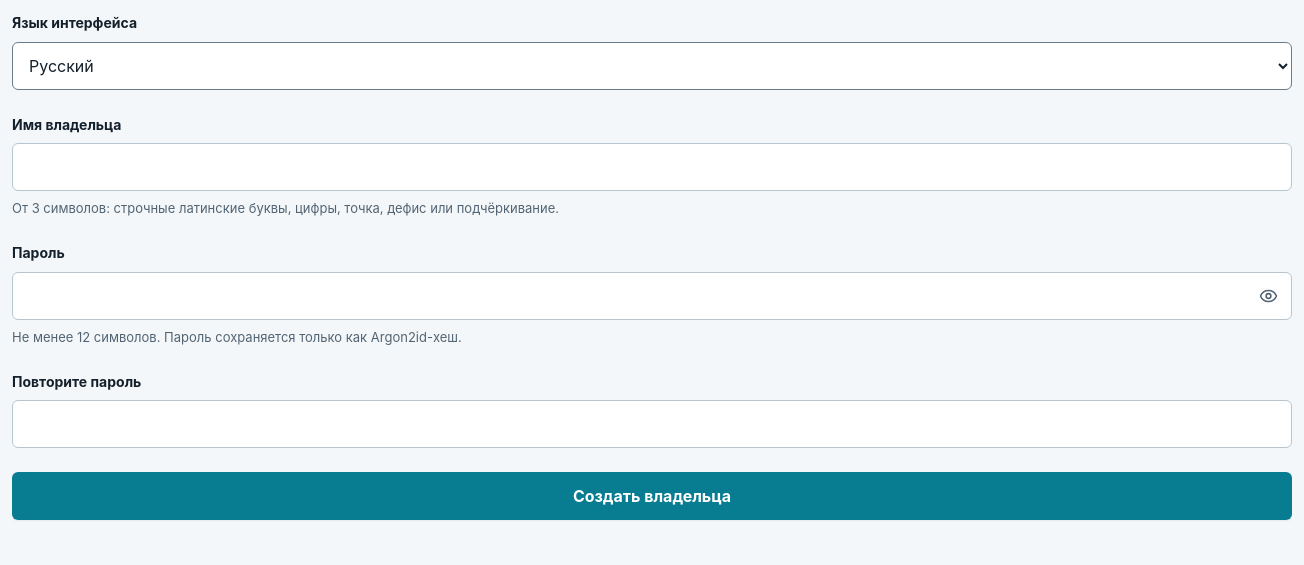
Scenario: OwnerSetupForm › explains a password mismatch next to confirmation
Type "owner" into the field labelled "Имя владельца" at (652, 167), box [12,143,1292,191]
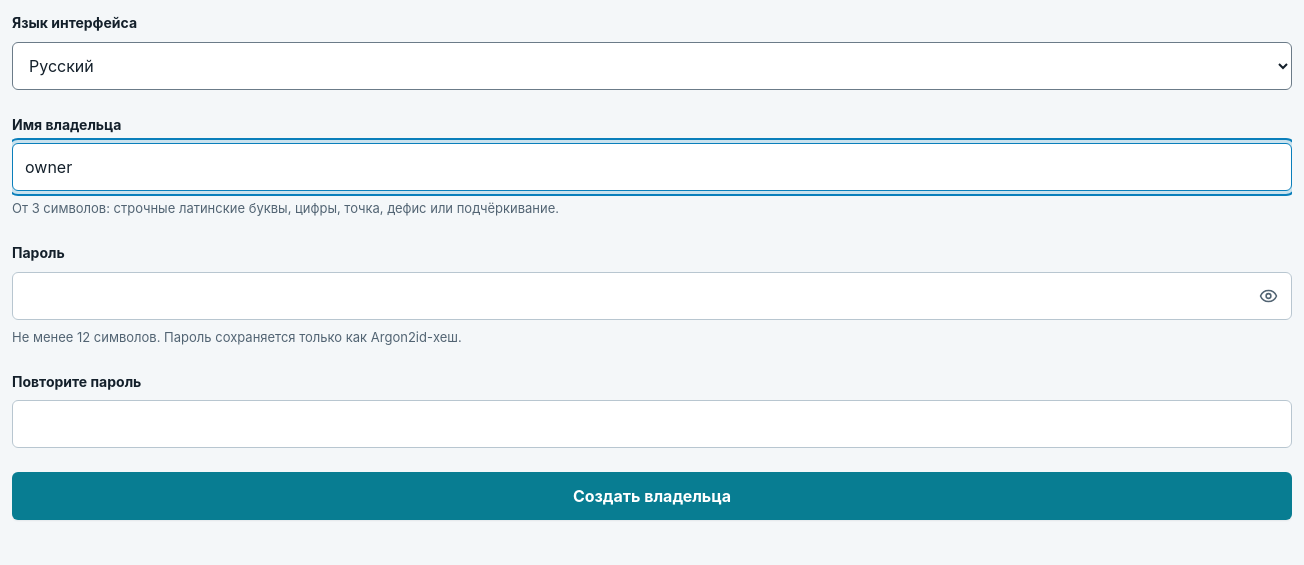
Type "correct horse battery staple" into the password field labelled "Пароль" at (652, 296), box [12,272,1292,320]
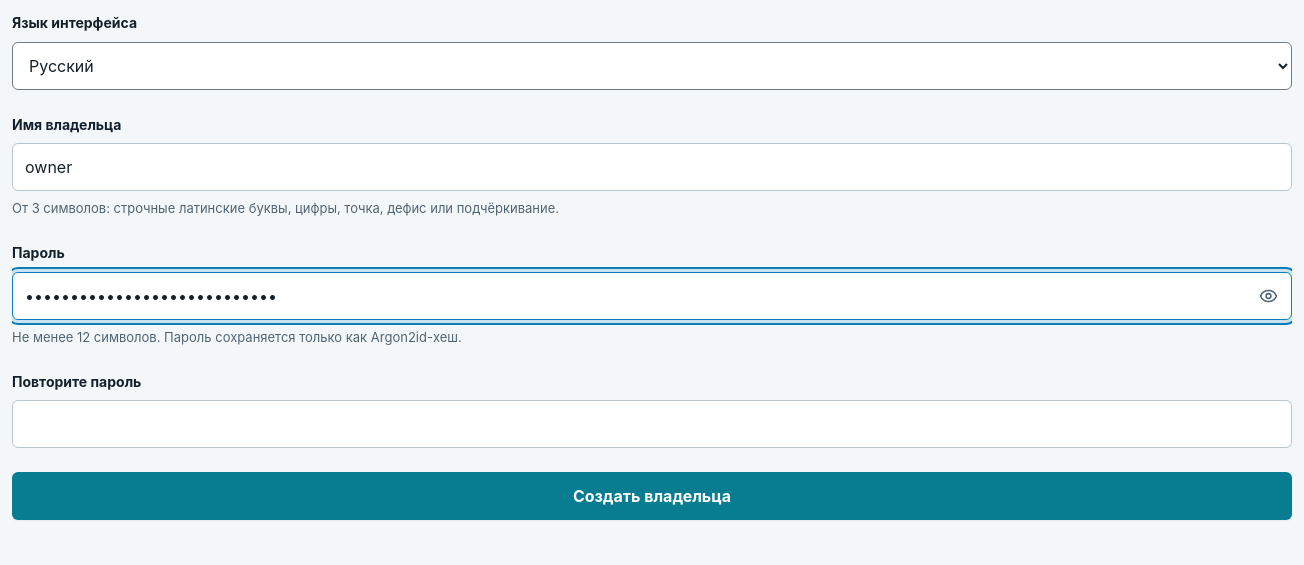
Type "different password" into the password field labelled "Повторите пароль" at (652, 424), box [12,400,1292,448]
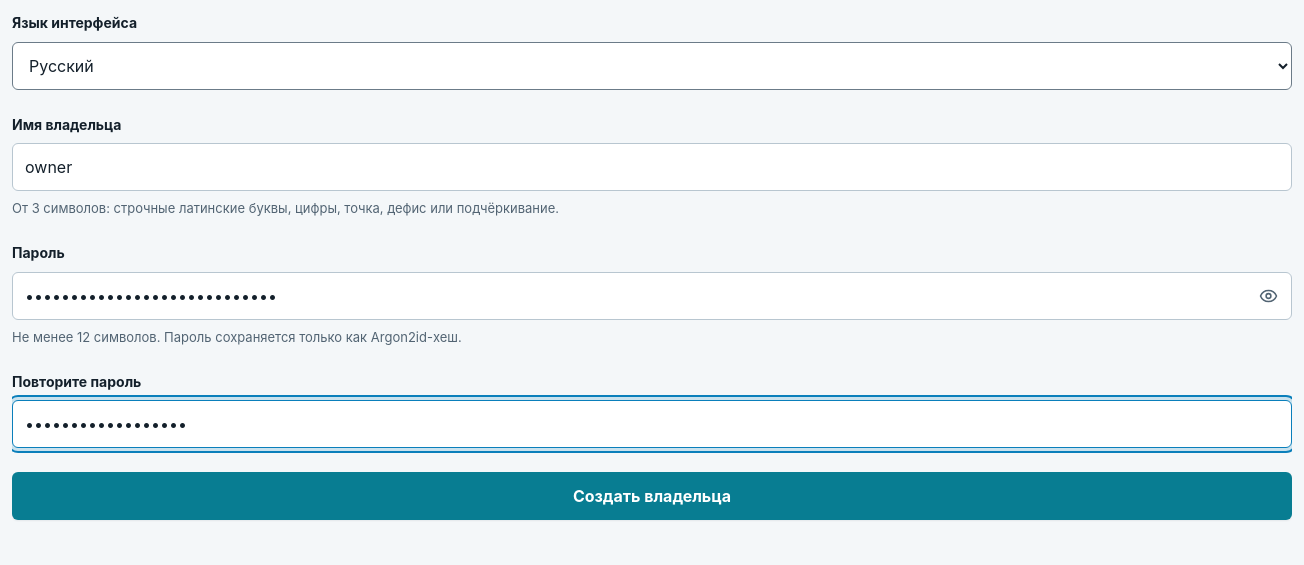
Click the button "Создать владельца" at (652, 496), box [12,472,1292,520]
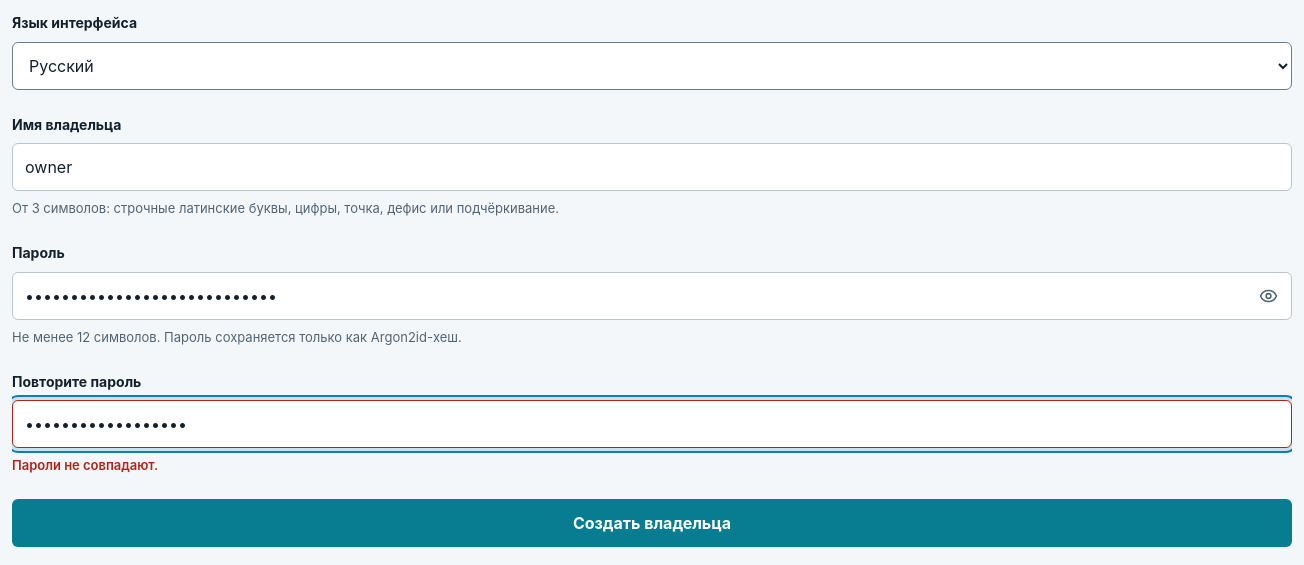
Expected: the text "Пароли не совпадают." is shown, [12,457,158,473]
